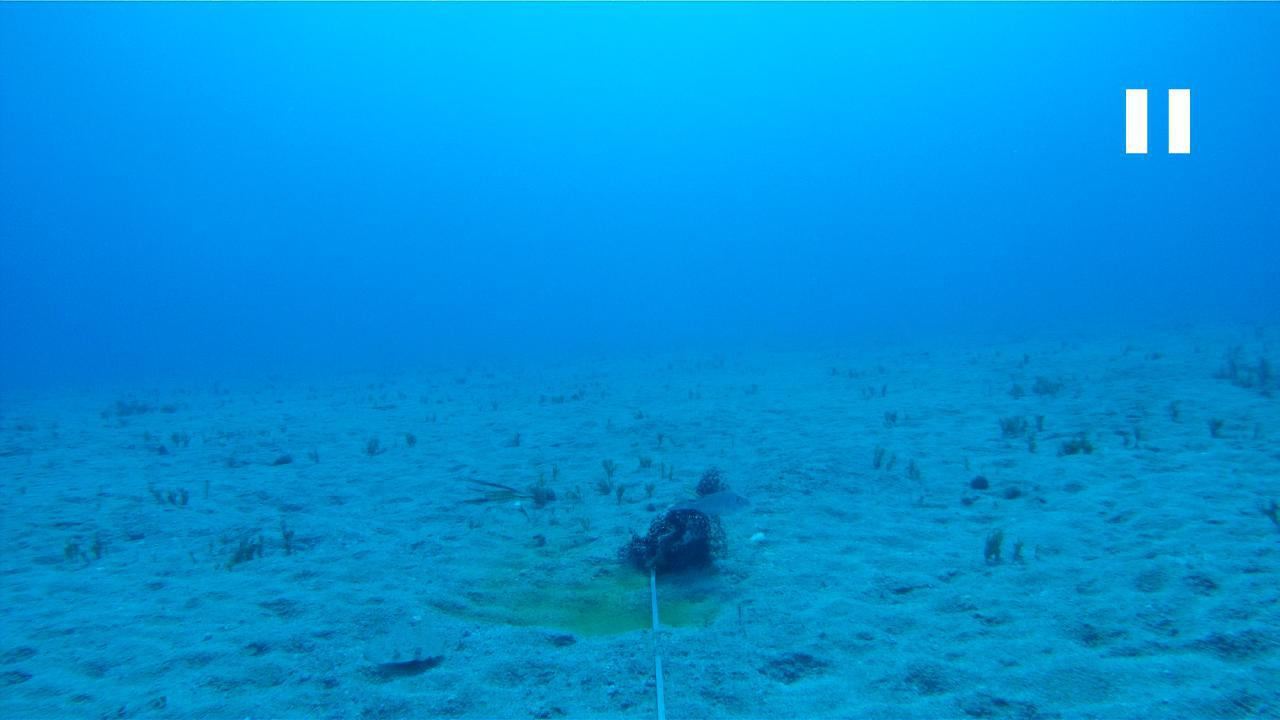bothus: (357, 620, 444, 671)
pagellus: (668, 491, 748, 516)
